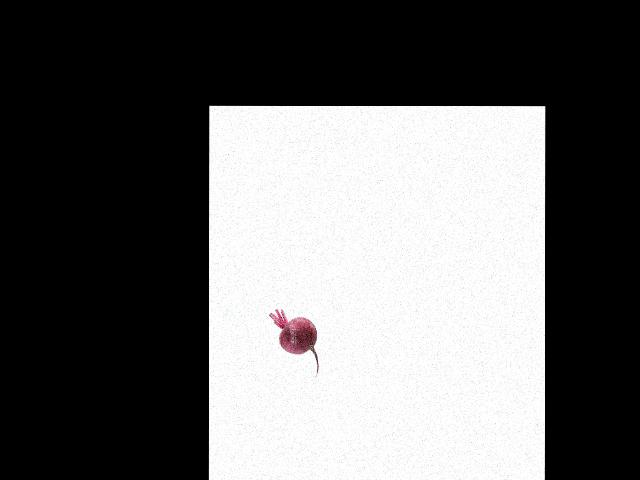beet: (269, 309, 318, 377)
